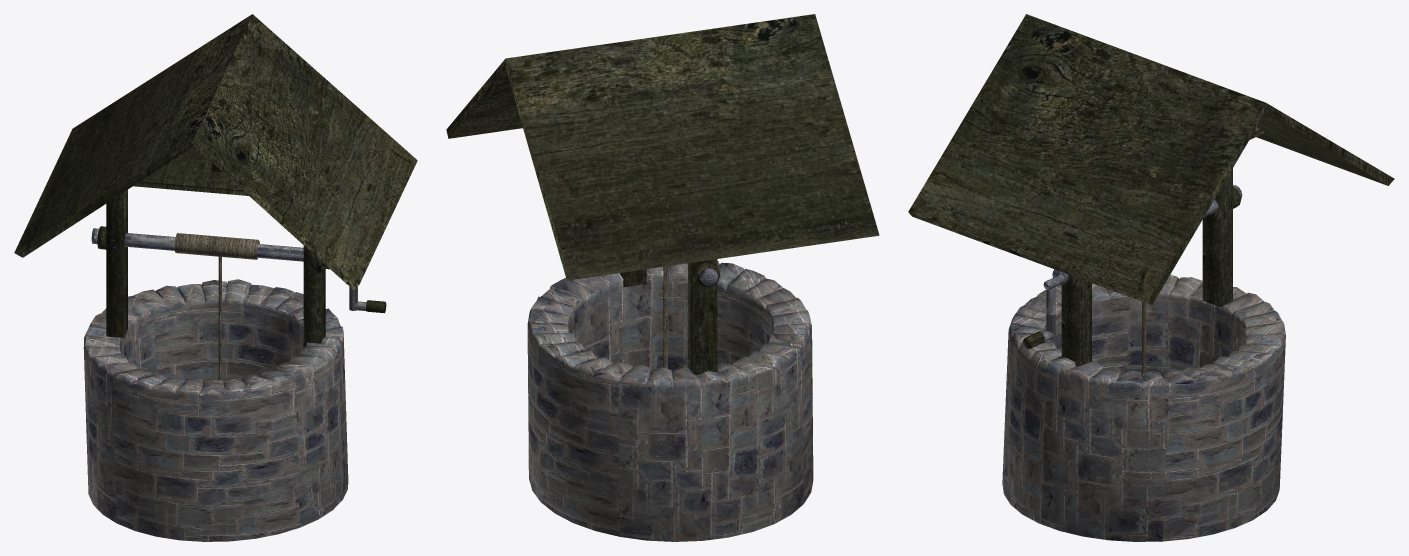
File: Well.fbx
The picture shows the model from 3 angles, left to right: view 1: azimuth 30°, elevation 25°; view 2: azimuth 150°, elevation 25°; view 3: azimuth 270°, elevation 25°; orthographic projection. The views are drawn at different scales.
Parts seen in each view (by area): view 1: well1; view 2: well1; view 3: well1.
Boxes of the visible parts, x1=… form: well1: x1=14, y1=14, x2=417, y2=541; well1: x1=446, y1=14, x2=879, y2=541; well1: x1=908, y1=14, x2=1394, y2=541.
Bounding box in the file's own units: 31.49 × 30.76 × 31.15.
Materials: 4 (4 with a texture image).
